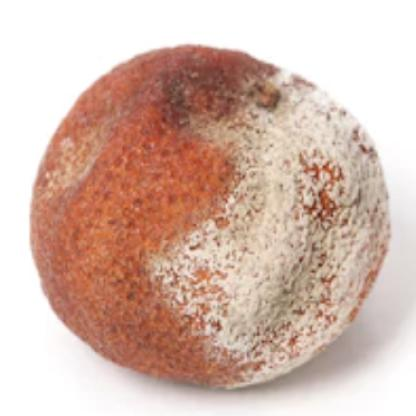rotten: (30, 45, 396, 395)
